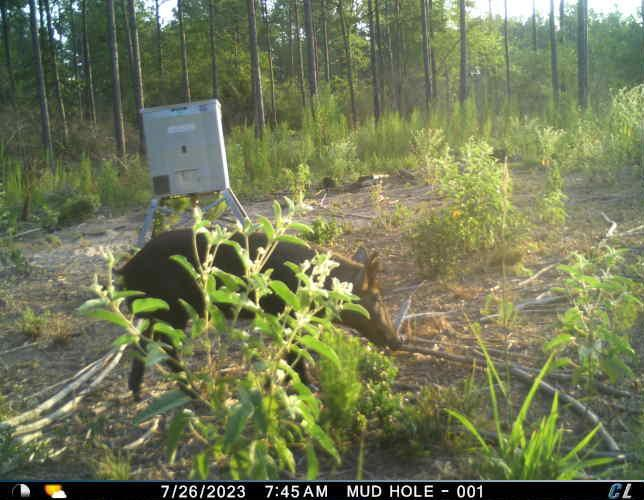Hog: (107, 228, 405, 409)
